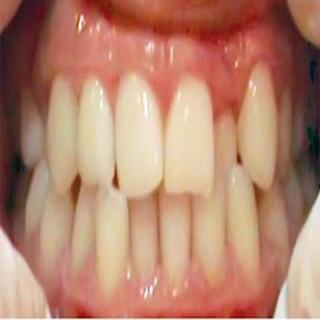LL1BC_healthy: (259, 189, 289, 247)
LL2BC_healthy: (281, 173, 304, 225)
LLCI_healthy: (159, 194, 191, 287)
LLC_healthy: (227, 165, 260, 270)
LLLI_healthy: (195, 189, 227, 278)
LR1BC_healthy: (40, 190, 73, 269)
LR2BC_healthy: (25, 161, 49, 238)
LRCI_healthy: (129, 199, 160, 271)
LRC_healthy: (71, 185, 96, 273)
LRLI_healthy: (96, 189, 130, 293)
UL1BC_healthy: (278, 91, 292, 167)
ULCI_healthy: (165, 78, 214, 197)
ULC_healthy: (239, 61, 277, 189)
ULLI_healthy: (214, 110, 238, 174)
UR1BC_healthy: (19, 92, 44, 166)
URCI_healthy: (114, 75, 164, 197)
URC_healthy: (45, 77, 77, 195)
URLI_healthy: (77, 74, 113, 188)
